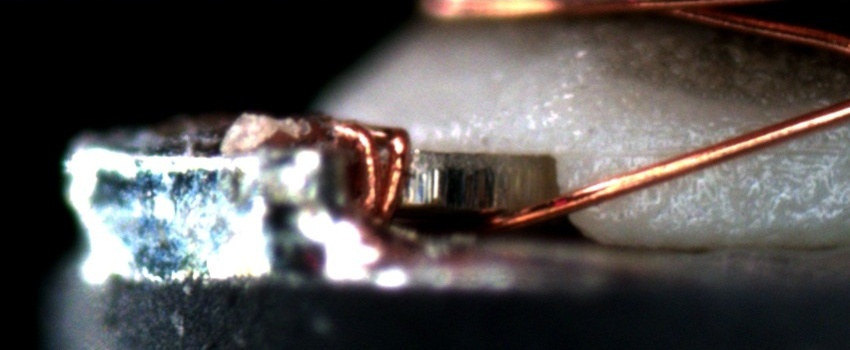DL: (603, 136, 849, 171)
TE: (316, 112, 415, 232)
